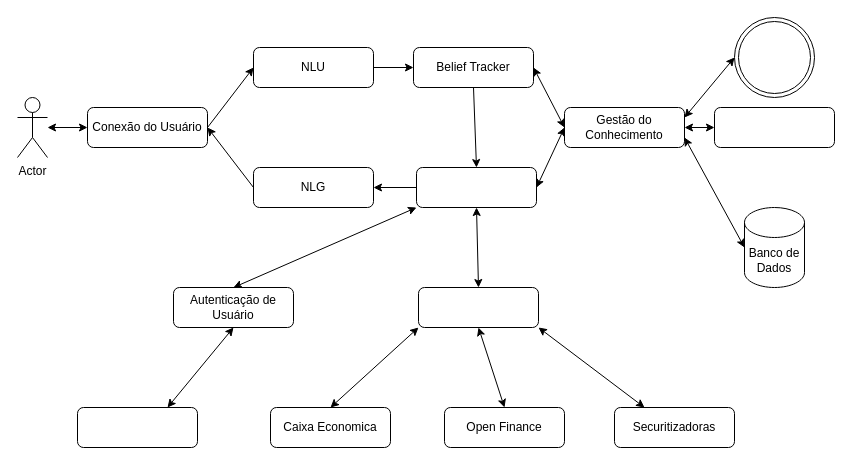
The diagram is 852 pixels wide and 465 high, and some of its shapes have lost their labels. Here are the shapes that lost their labels. From the top down, the box of each, then its label:
(734, 16, 814, 98): Ontologia
(714, 106, 834, 148): API Externa
(416, 166, 536, 208): Política
(418, 286, 538, 328): App Gate
(76, 406, 198, 448): Único
